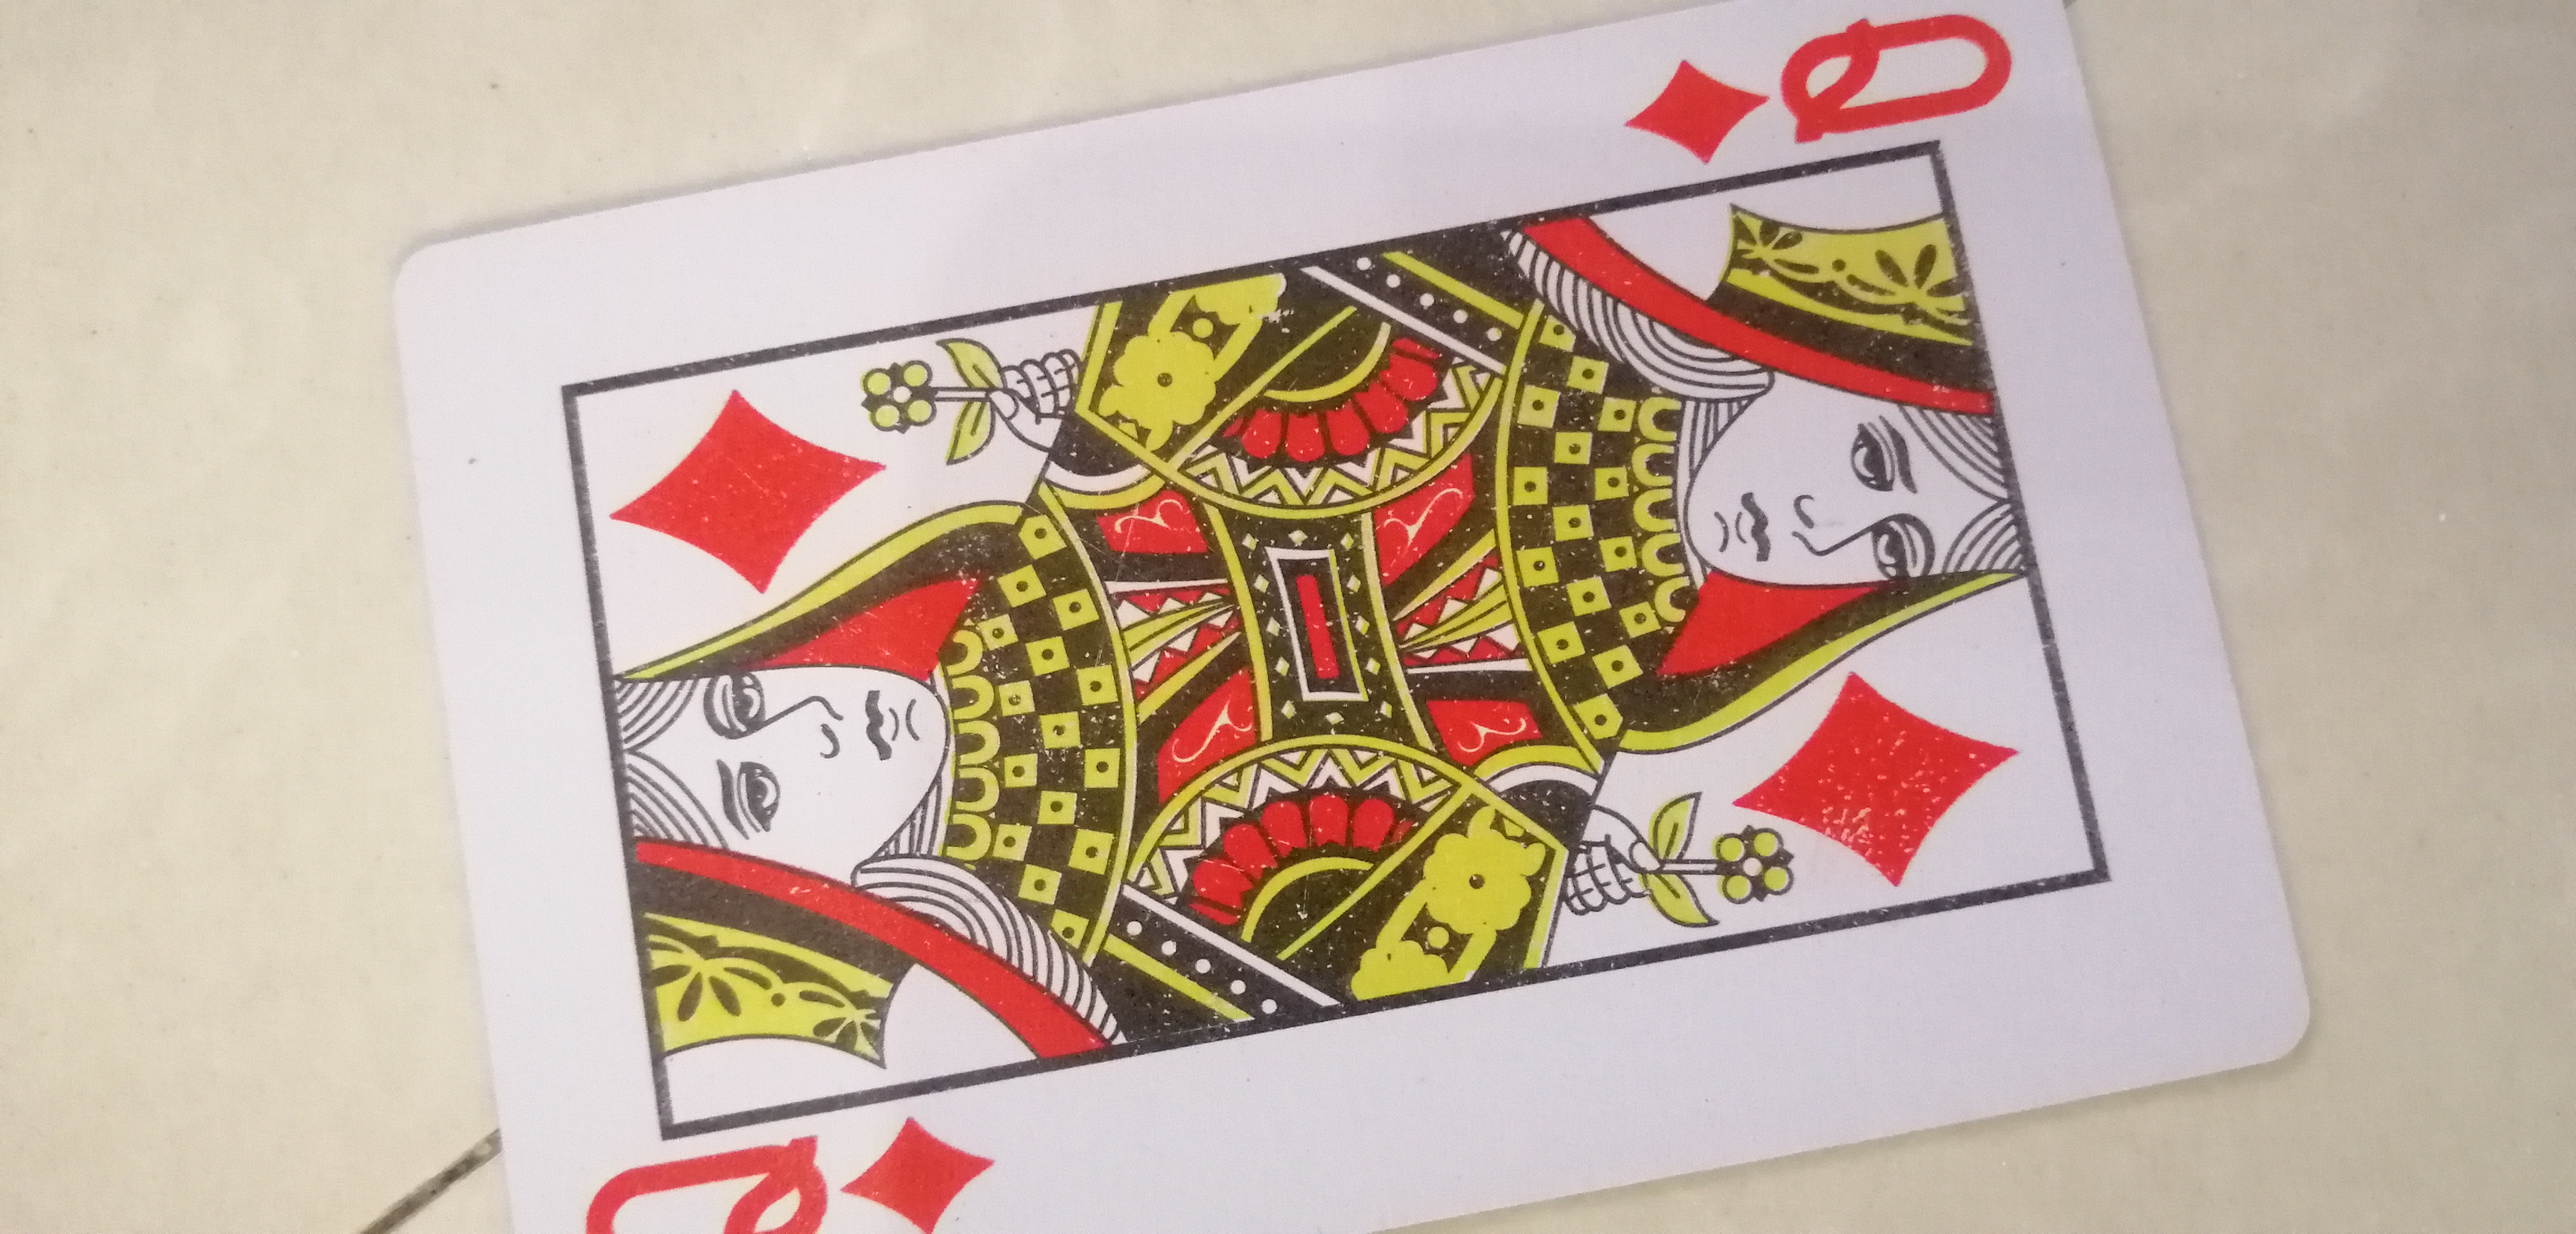queen: (314, 15, 2399, 1224)
